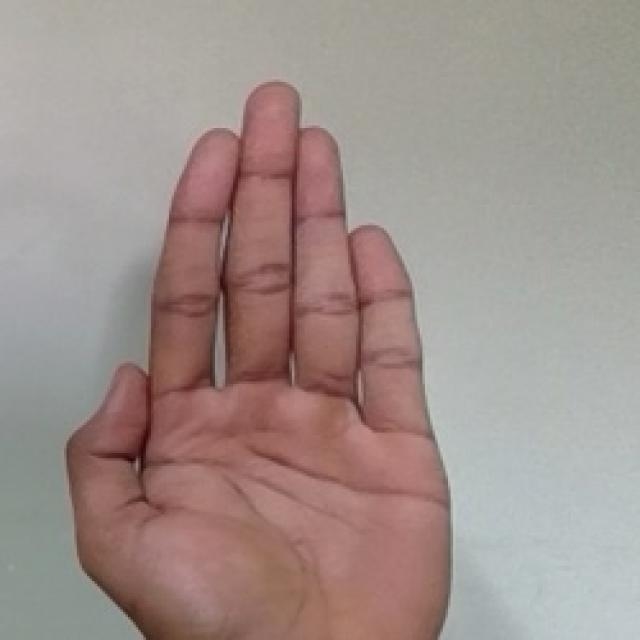Numeric-5: (66, 66, 461, 636)
